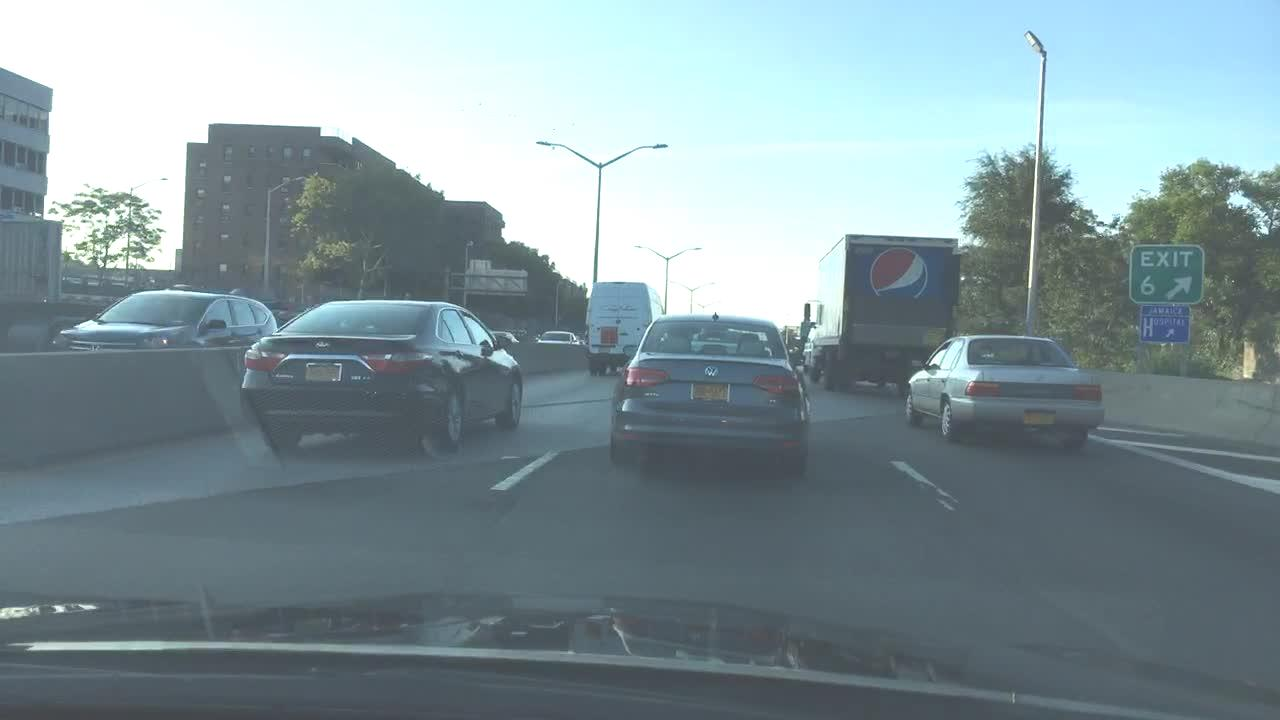Toyota: (315, 337, 331, 353)
Volkswagen: (702, 363, 719, 381)
